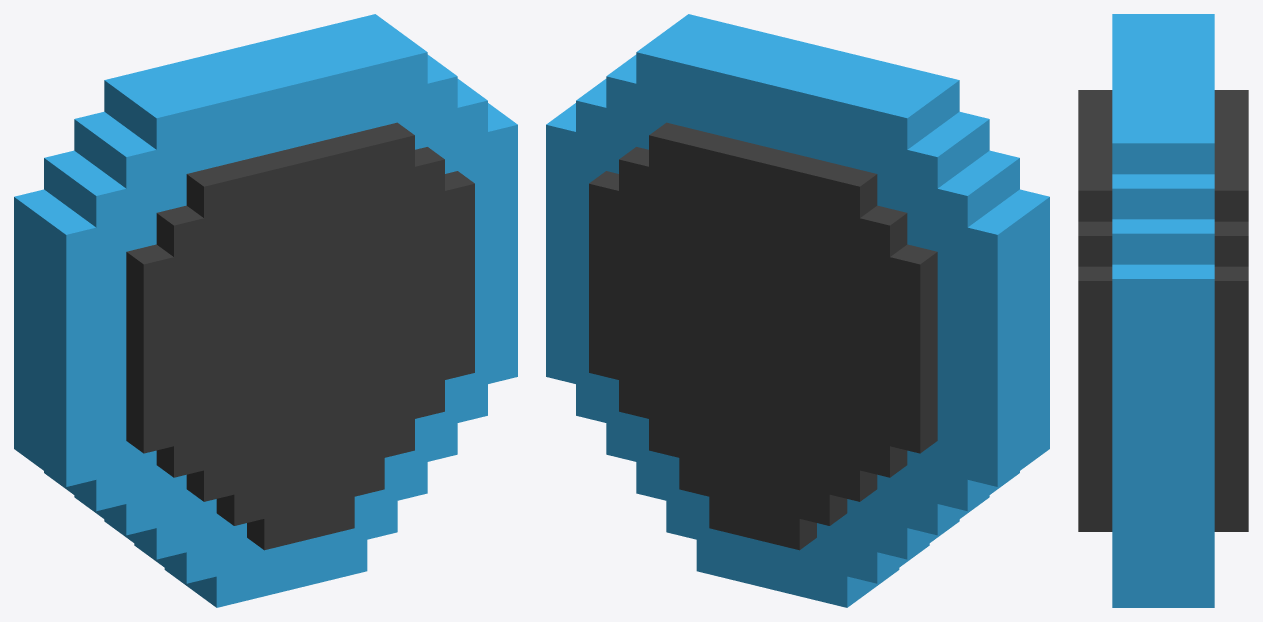
File: Shield_Item.fbx
3 views of the same model, side by side, from view 1: azimuth 30°, elevation 25°; view 2: azimuth 150°, elevation 25°; view 3: azimuth 270°, elevation 25° (orthographic). The views are drawn at different scales.
Visible parts, largest first — view 1: Shield_Item; view 2: Shield_Item; view 3: Shield_Item.
Boxes of the visible parts, left/top/right/bottom form: Shield_Item: left=14, top=14, right=517, bottom=607; Shield_Item: left=546, top=14, right=1049, bottom=607; Shield_Item: left=1078, top=14, right=1248, bottom=607.
Bounding box in the file's own units: 15 × 16 × 5.
1 material, 1 textured.
